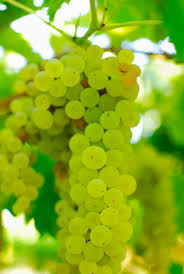grapes: (20, 49, 138, 274)
